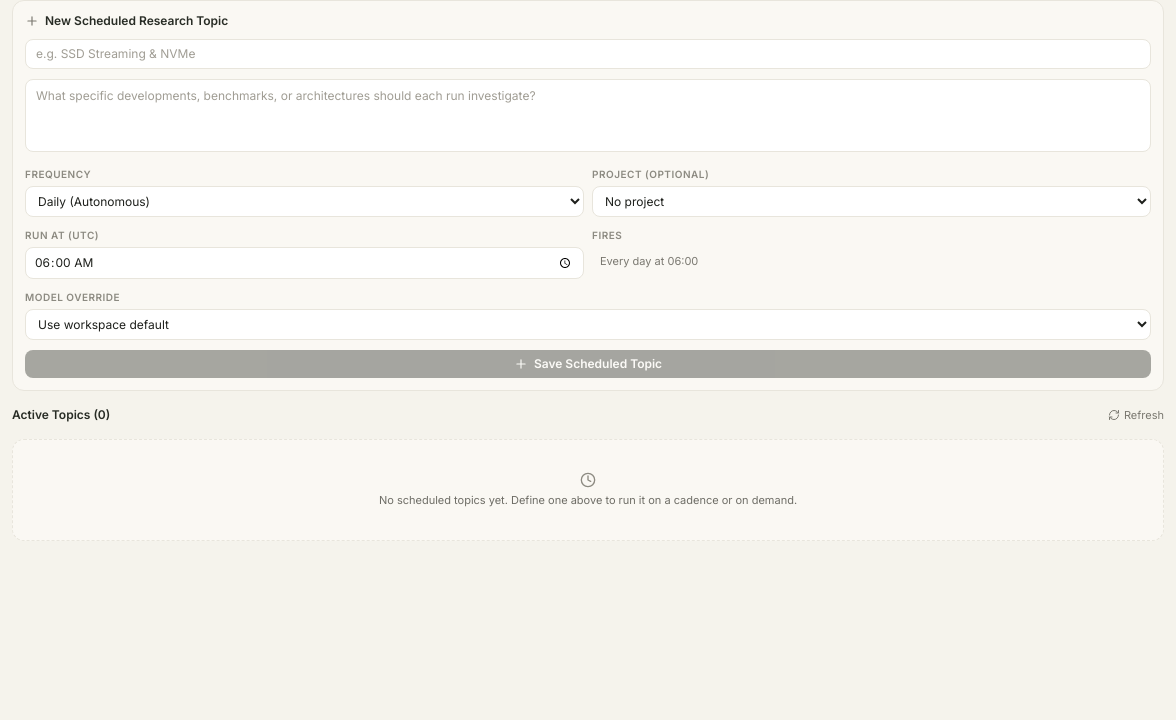
Test: Phase 18: Continuous & Scheduled Research / Planning Topics › Test 6: time picker is shown for daily/weekly and hidden for manual
This screenshot has width=1176, height=720.
Expected: the time field with test id "input-topic-time" holds "06:00", [25,246,584,279]
Weekly: the weekday anchor appears.
Step 1. Select "Weekly" in the dropdown with test id "select-topic-cadence" → (304, 201), box [25,186,584,216]
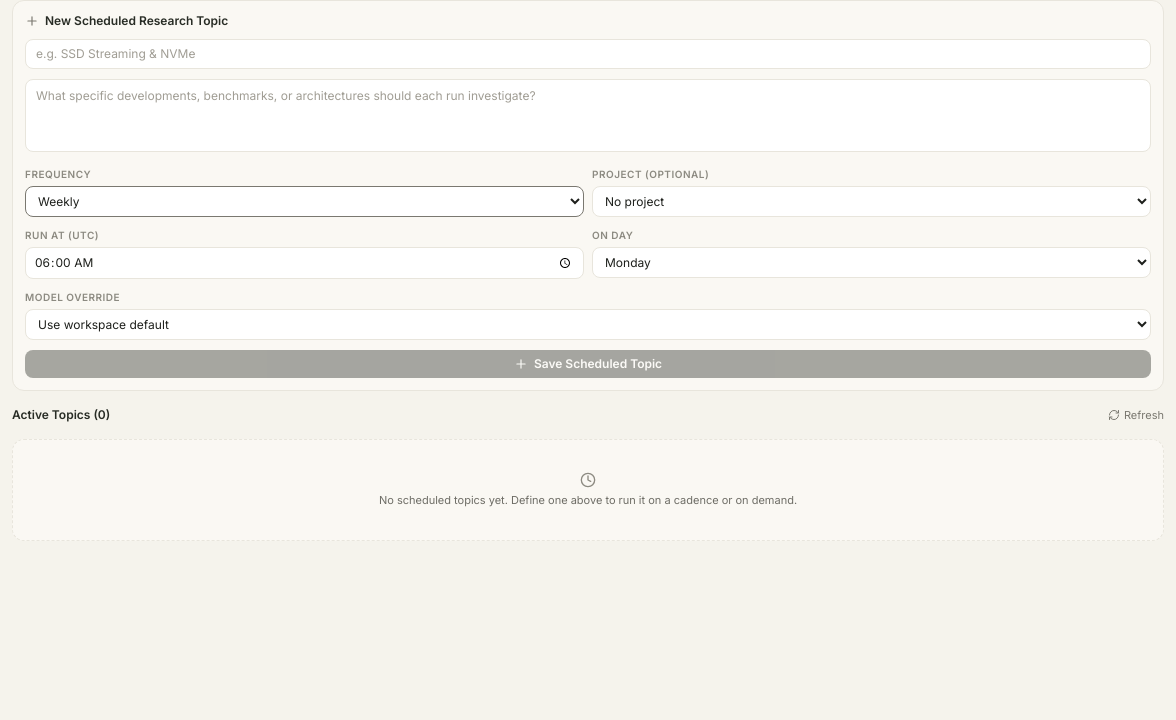
Expected: the time field with test id "input-topic-time" is shown, [25,246,584,279]
Expected: the dropdown with test id "select-topic-weekday" is shown, [592,246,1151,278]
Manual: neither control is shown — a time is meaningless without a cadence.
Step 2. Select "Manual Only" in the dropdown with test id "select-topic-cadence" → (304, 201), box [25,186,584,216]
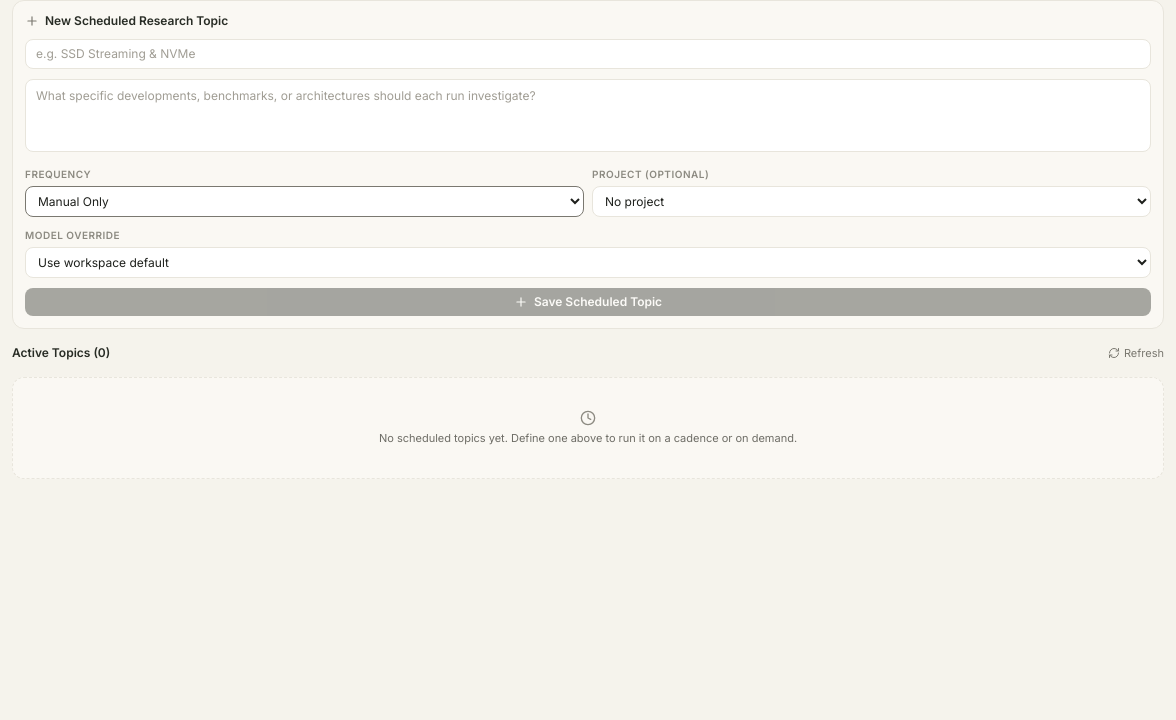
Expected: the time field with test id "input-topic-time" is gone
Expected: the dropdown with test id "select-topic-weekday" is gone
